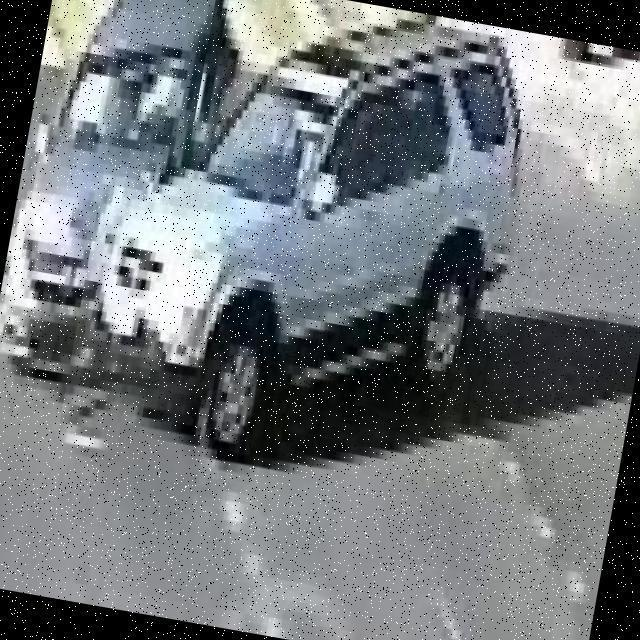accident: (0, 0, 546, 480)
